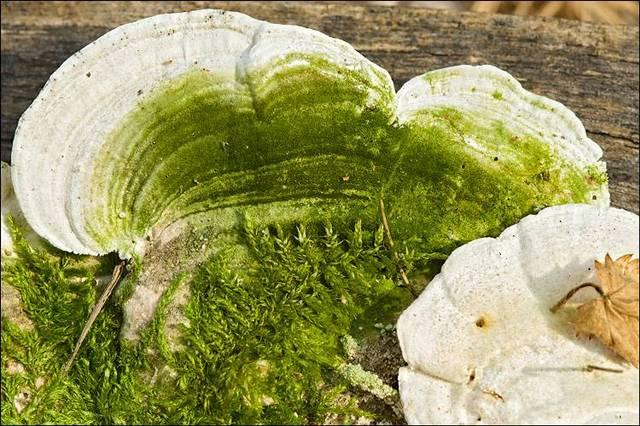poisonous_mushroom: (11, 8, 640, 425)
